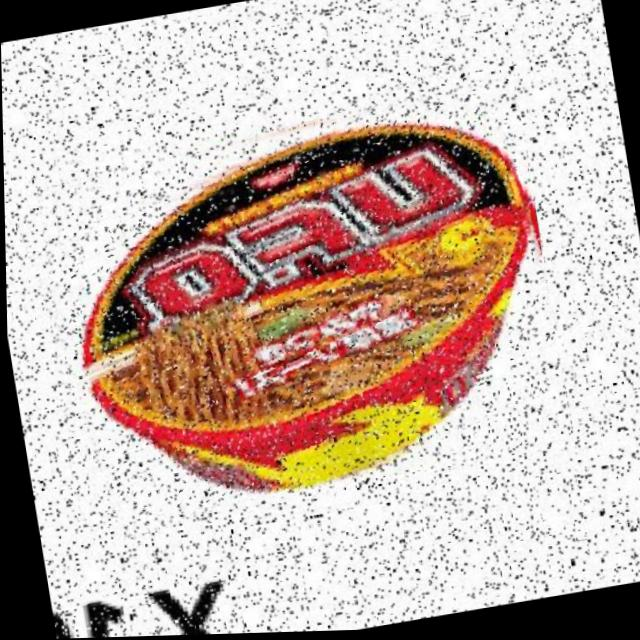Miscellaneous: (12, 73, 572, 530)
